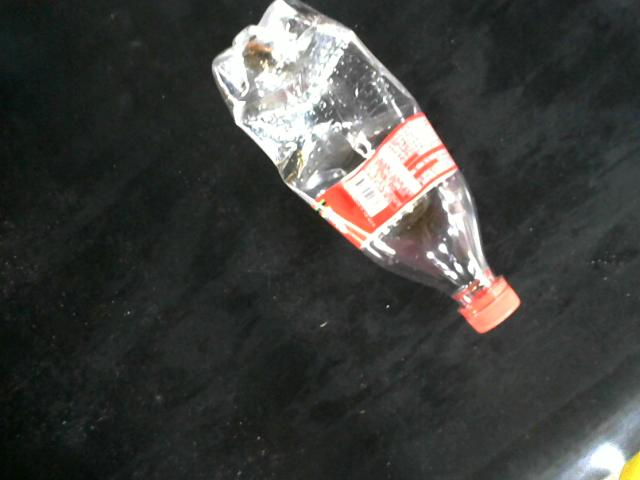bottle: (211, 0, 522, 335)
